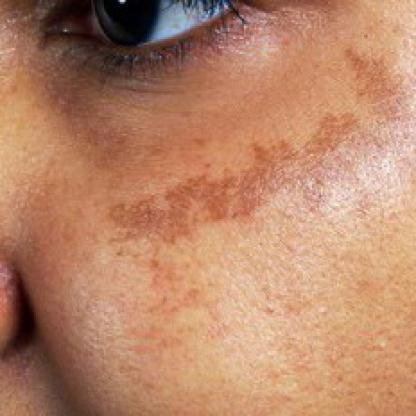darkspot: (140, 254, 396, 381), (312, 19, 414, 302), (79, 150, 364, 249), (39, 63, 210, 180)
